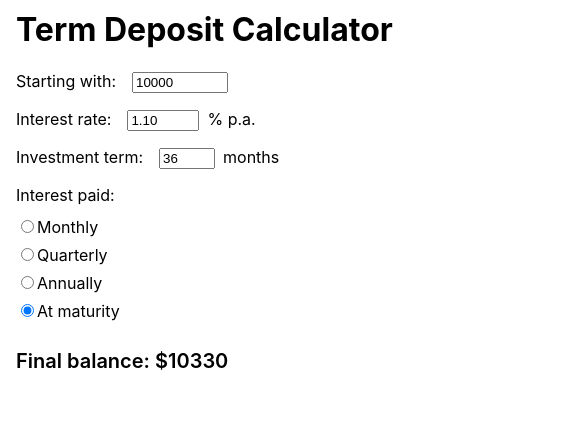
Test: displays error message when investment term is invalid
Replace the text in the number field labelled "Investment term: months" with "0": coordinates (187, 158) 159,148 -> 215,169
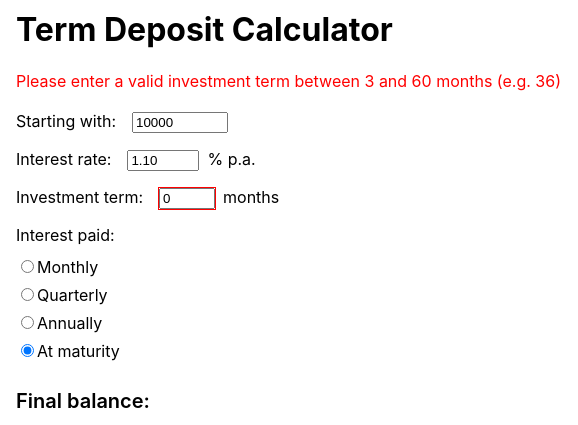
Expected: the text "Please enter a valid investment term between 3 and 60 months (e.g. 36)" is shown, 16,71 -> 561,91
